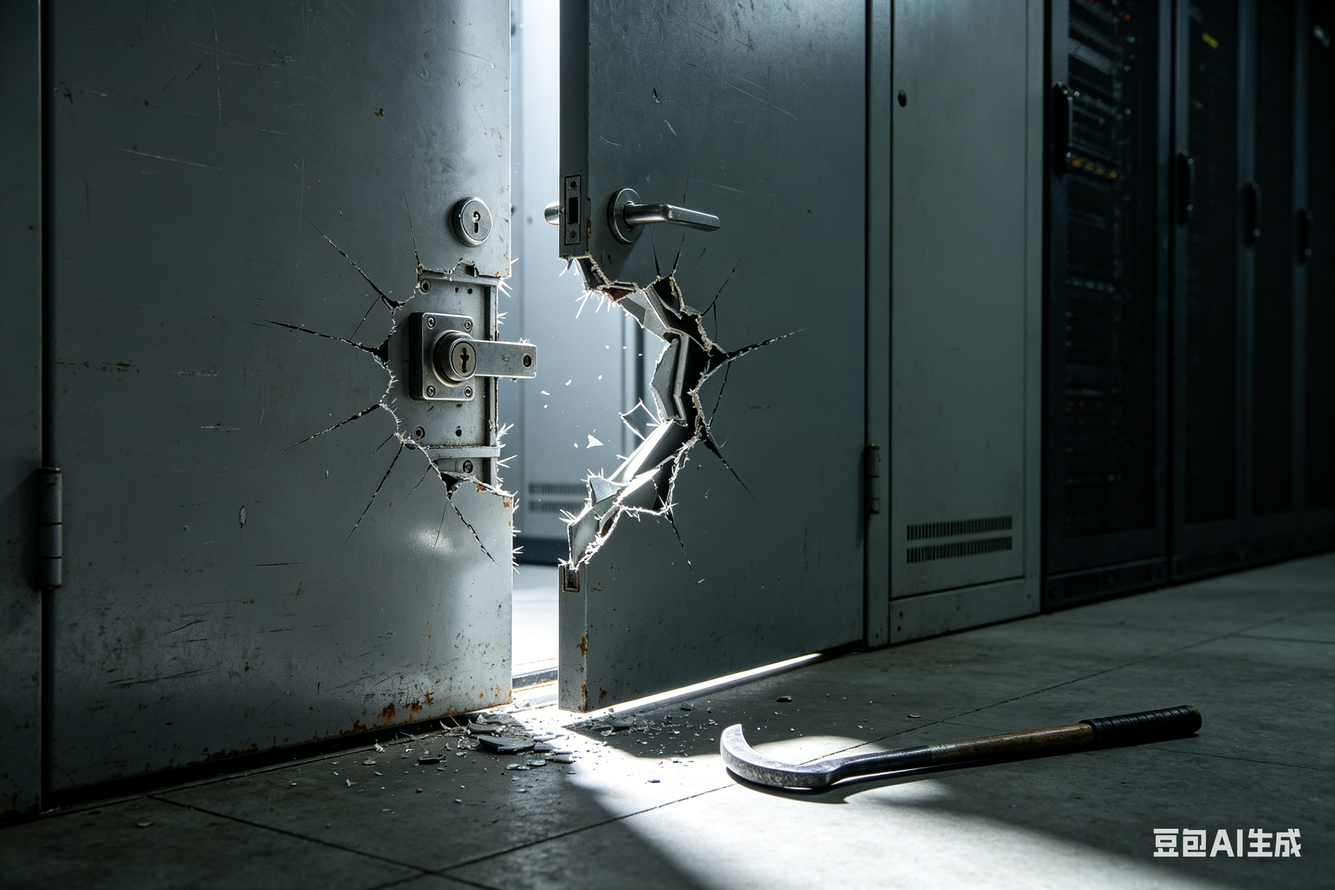BadLock: (392, 260, 708, 514)
